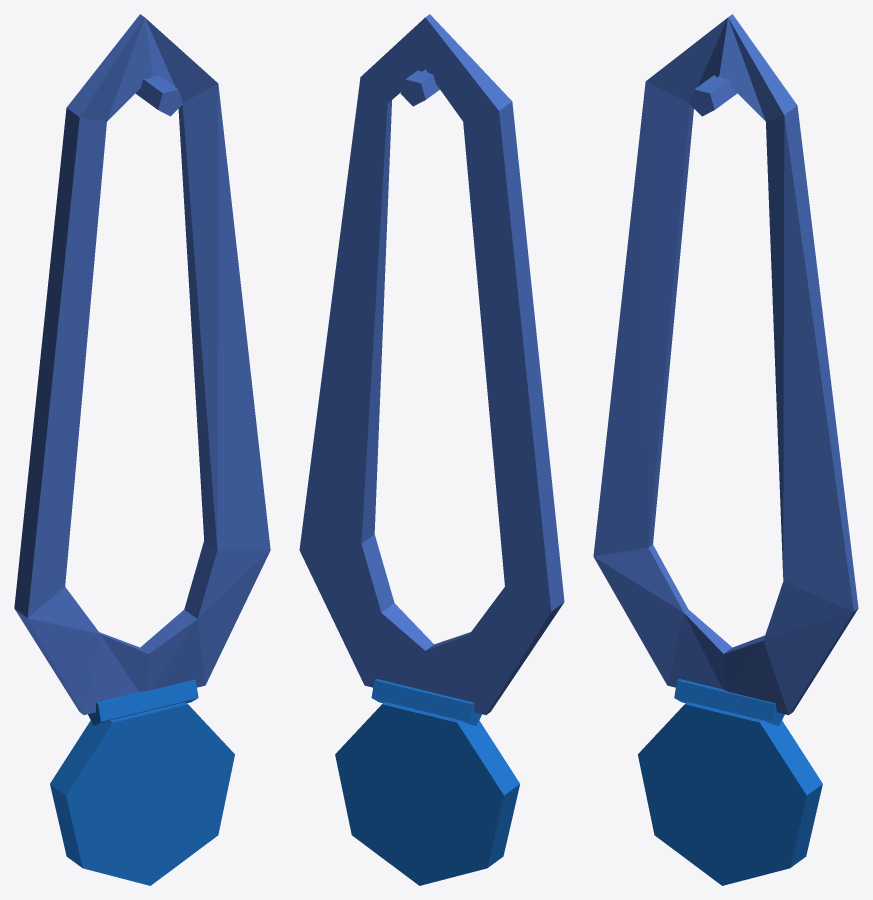
The model's file is SM_medal.fbx.
3 renders of one model, left to right at view 1: azimuth 30°, elevation 25°; view 2: azimuth 150°, elevation 25°; view 3: azimuth 330°, elevation 25°, orthographic.
Visible parts, largest first — view 1: medal; view 2: medal; view 3: medal.
Boxes of the visible parts, <box> form: medal: <box>14,14,270,885</box>; medal: <box>299,14,564,885</box>; medal: <box>593,14,858,885</box>.
Bounding box in the file's own units: 14.62 × 47.96 × 4.29.
